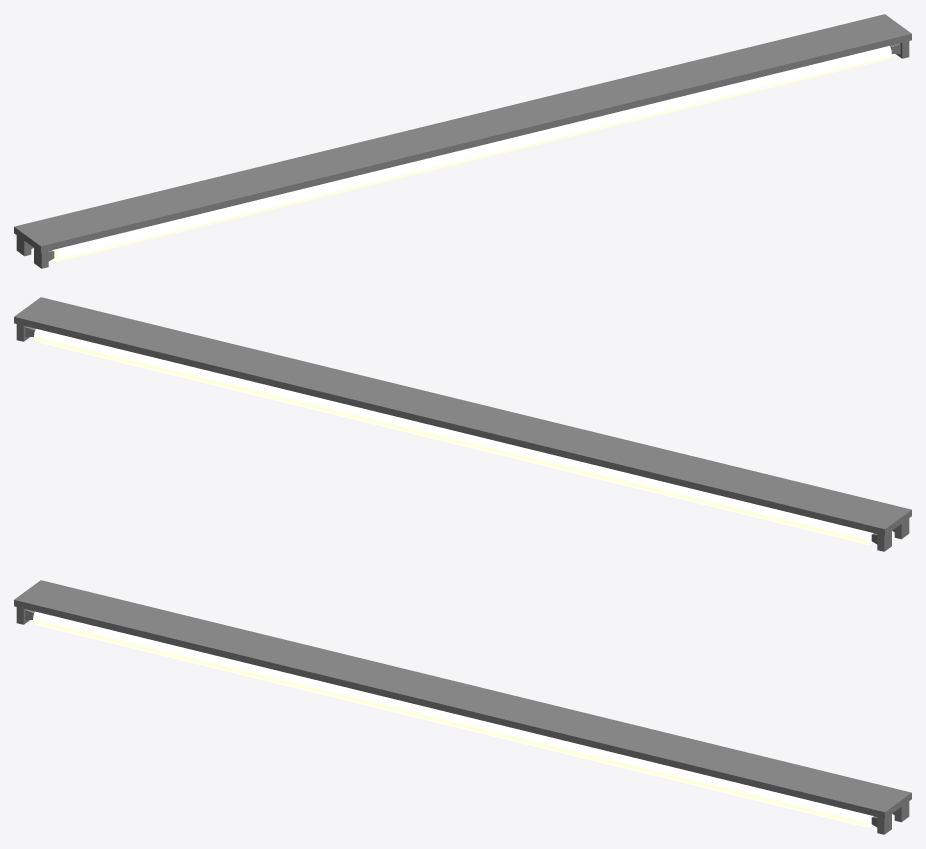
The model's file is florasan.fbx.
The picture shows the model from 3 angles, top to bottom: view 1: azimuth 30°, elevation 25°; view 2: azimuth 150°, elevation 25°; view 3: azimuth 330°, elevation 25°; orthographic projection.
Parts seen in each view (by area): view 1: Cylinder.001; view 2: Cylinder.001; view 3: Cylinder.001.
Boxes of the visible parts, box(x1,y1,x2,y2) form: Cylinder.001: box(14, 14, 911, 268); Cylinder.001: box(14, 297, 911, 551); Cylinder.001: box(14, 580, 911, 834).
Size of the model in its own units: 297 by 7.73 by 15.91.
